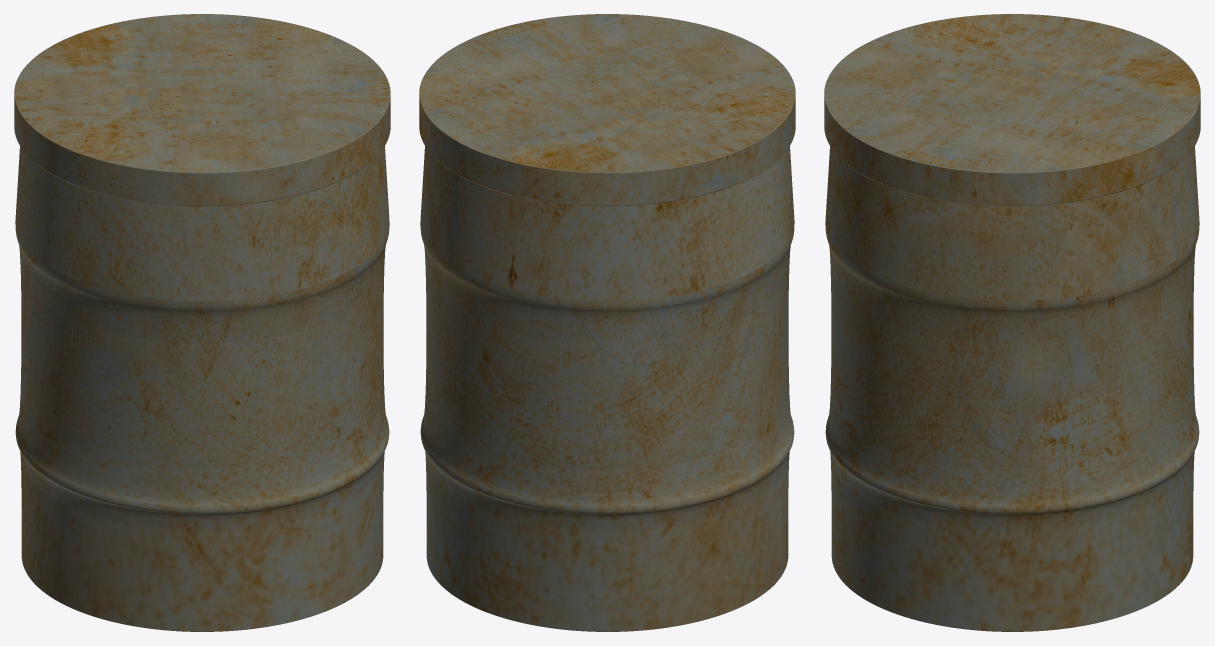
File: BarrilCerrado.fbx
3 views of the same model, side by side, from view 1: azimuth 30°, elevation 25°; view 2: azimuth 150°, elevation 25°; view 3: azimuth 270°, elevation 25° (orthographic).
Visible parts, largest first — view 1: BarrilCerrado.002; view 2: BarrilCerrado.002; view 3: BarrilCerrado.002.
Part boxes in pixels (x1,y1,x2,y2): BarrilCerrado.002: (14, 14, 390, 631); BarrilCerrado.002: (419, 14, 795, 631); BarrilCerrado.002: (824, 14, 1200, 631).
Bounding box in the file's own units: 212 × 287 × 212.
